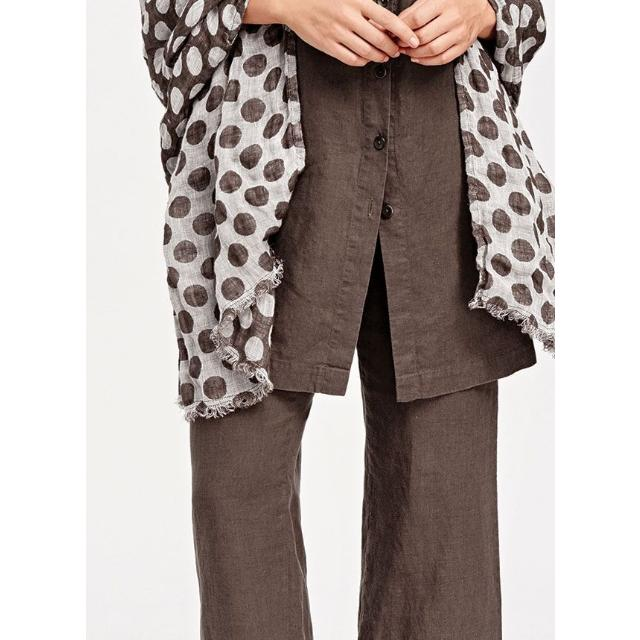linen: (199, 0, 493, 640)
